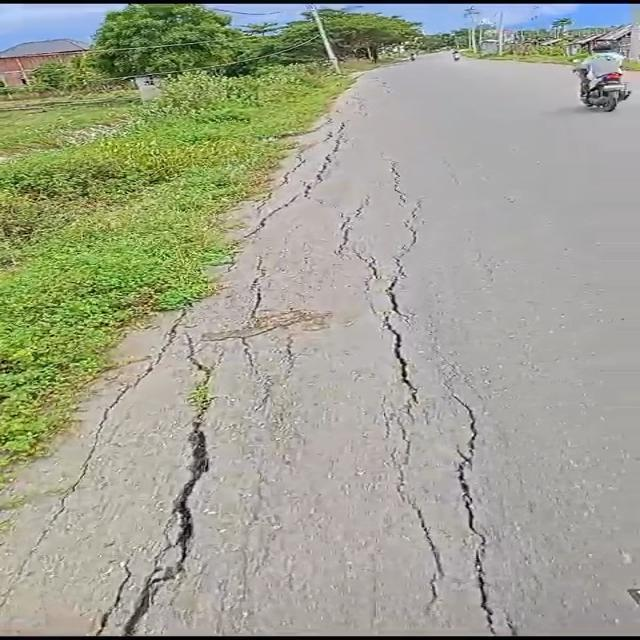Memanjang: (441, 385, 515, 639), (376, 153, 434, 424)
Pinggir: (0, 99, 370, 640)
